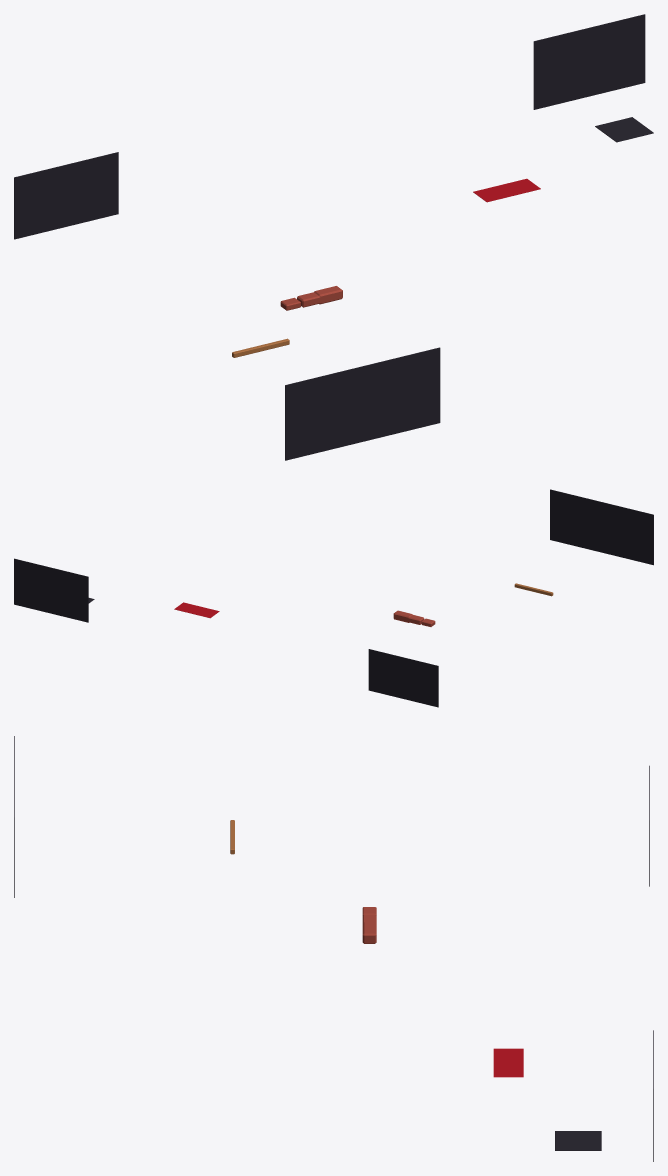
File: D-MAIN.w3.glb
3 views of the same model, one above another, from view 1: azimuth 30°, elevation 25°; view 2: azimuth 150°, elevation 25°; view 3: azimuth 270°, elevation 25° (orthographic). The views are drawn at different scales.
Parts seen in each view (by area): view 1: pal_uiDark.001, pal_brick.002, pal_blood.001; view 2: pal_uiDark.001, pal_brick.002, pal_blood.001; view 3: pal_uiDark.001, pal_blood.001.
Boxes of the visible parts, <box> form: pal_uiDark.001: <box>14,14,653,460</box>; pal_brick.002: <box>280,286,342,310</box>; pal_blood.001: <box>473,178,540,202</box>; pal_uiDark.001: <box>14,489,653,707</box>; pal_brick.002: <box>393,610,435,626</box>; pal_blood.001: <box>174,602,219,618</box>; pal_uiDark.001: <box>14,736,653,1161</box>; pal_blood.001: <box>493,1048,523,1077</box>.
Bounding box in the file's own units: 35.11 × 4.43 × 27.59.
